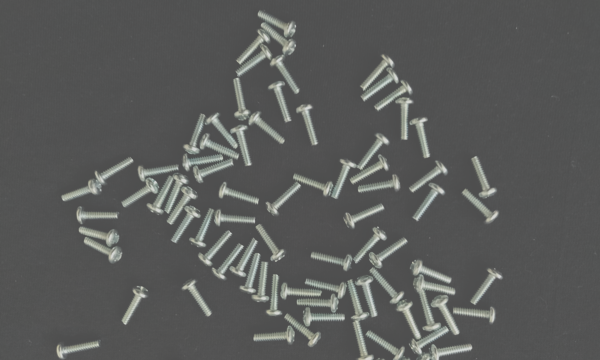shortscrew: (461, 188, 499, 225), (412, 182, 447, 222), (360, 53, 396, 91), (369, 268, 405, 306), (470, 267, 505, 306), (361, 67, 400, 101), (284, 314, 323, 348), (409, 160, 449, 193), (198, 231, 233, 268), (354, 227, 388, 265), (248, 112, 287, 145), (375, 79, 414, 112), (167, 185, 198, 226), (266, 182, 301, 218), (205, 112, 239, 149), (236, 44, 273, 78), (237, 28, 271, 65), (121, 176, 160, 208), (182, 278, 213, 318), (350, 154, 390, 185), (471, 156, 499, 200), (431, 294, 461, 335), (357, 133, 390, 170), (212, 244, 245, 281), (255, 225, 287, 263), (95, 157, 135, 187), (370, 237, 408, 268), (342, 202, 384, 230), (270, 54, 299, 94), (260, 24, 297, 55), (122, 286, 149, 328), (83, 237, 123, 265), (230, 239, 258, 279), (266, 80, 292, 123), (410, 258, 453, 284), (146, 176, 173, 217), (172, 206, 201, 244), (200, 134, 240, 161), (354, 275, 379, 318), (165, 172, 191, 213), (258, 10, 297, 37), (61, 178, 103, 203), (418, 291, 443, 333), (397, 300, 423, 340), (453, 302, 498, 325), (296, 103, 320, 146), (293, 173, 334, 198), (332, 159, 357, 200), (183, 113, 207, 155), (55, 338, 100, 360), (310, 250, 355, 272), (305, 277, 348, 300), (230, 125, 253, 167), (193, 161, 235, 184), (137, 161, 180, 183), (410, 116, 432, 159), (413, 275, 456, 297), (239, 253, 261, 295), (190, 208, 213, 248), (358, 174, 401, 195), (218, 183, 259, 205), (347, 280, 369, 321), (79, 226, 119, 248), (352, 322, 375, 360), (232, 78, 252, 121), (395, 97, 415, 140), (296, 293, 339, 313), (302, 308, 346, 327), (76, 207, 119, 226), (214, 208, 257, 227), (182, 155, 224, 174), (254, 327, 296, 346), (280, 282, 323, 300), (429, 343, 474, 360), (252, 262, 270, 303), (268, 275, 283, 318), (415, 351, 454, 360), (394, 353, 427, 360), (371, 359, 410, 360)
